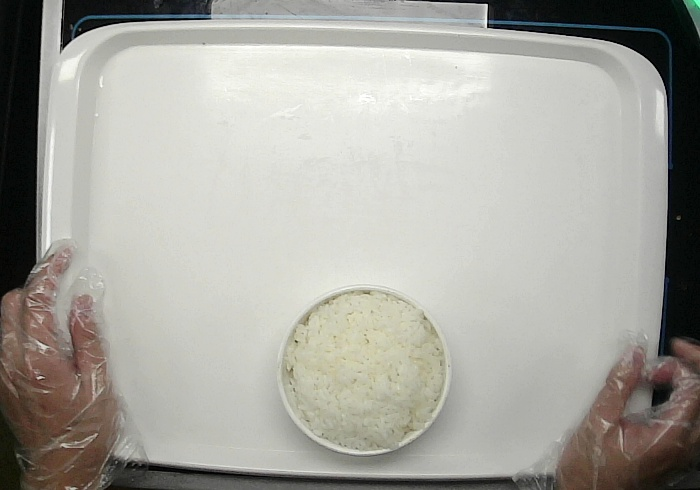HZYJPL-Fan_Wan: (277, 284, 451, 455)
